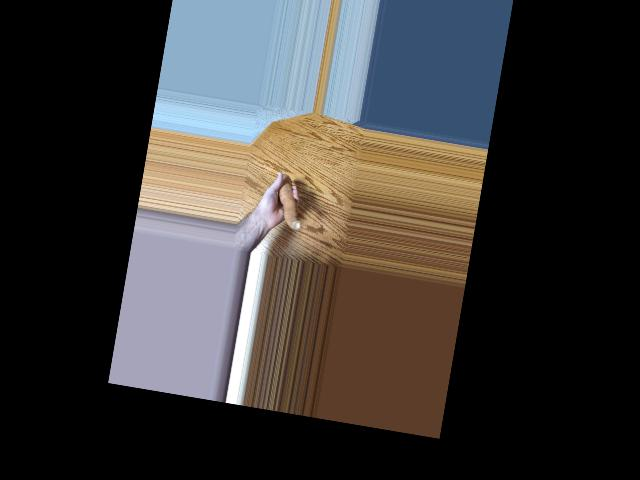sweet_potato: (270, 174, 307, 232)
